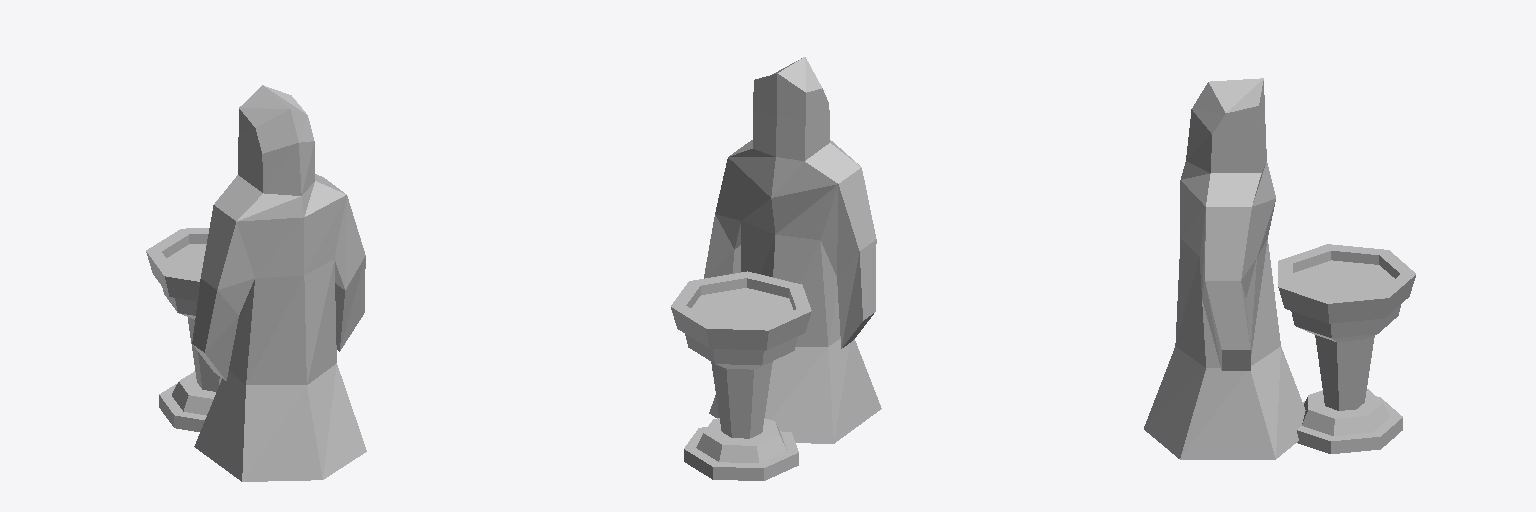
The model's file is Statue2.obj.
3 renders of one model, left to right at view 1: azimuth 30°, elevation 25°; view 2: azimuth 150°, elevation 25°; view 3: azimuth 270°, elevation 25°, orthographic.
Parts seen in each view (by area): view 1: Statue2; view 2: Statue2; view 3: Statue2.
Boxes of the visible parts, x1,y1,x2,y2 form: Statue2: [146, 85, 366, 481]; Statue2: [671, 57, 881, 480]; Statue2: [1144, 78, 1415, 459].
Bounding box in the file's own units: 0.4271 × 0.9088 × 0.6355.